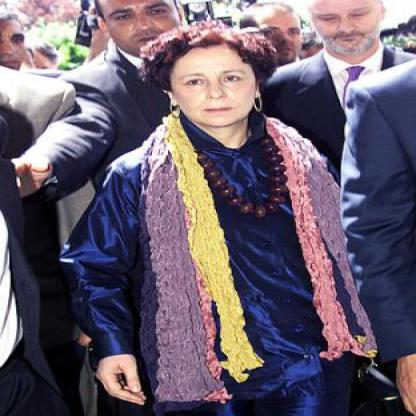face: (170, 40, 257, 129), (103, 1, 180, 61), (310, 1, 383, 61), (254, 7, 307, 62), (1, 11, 31, 78)
